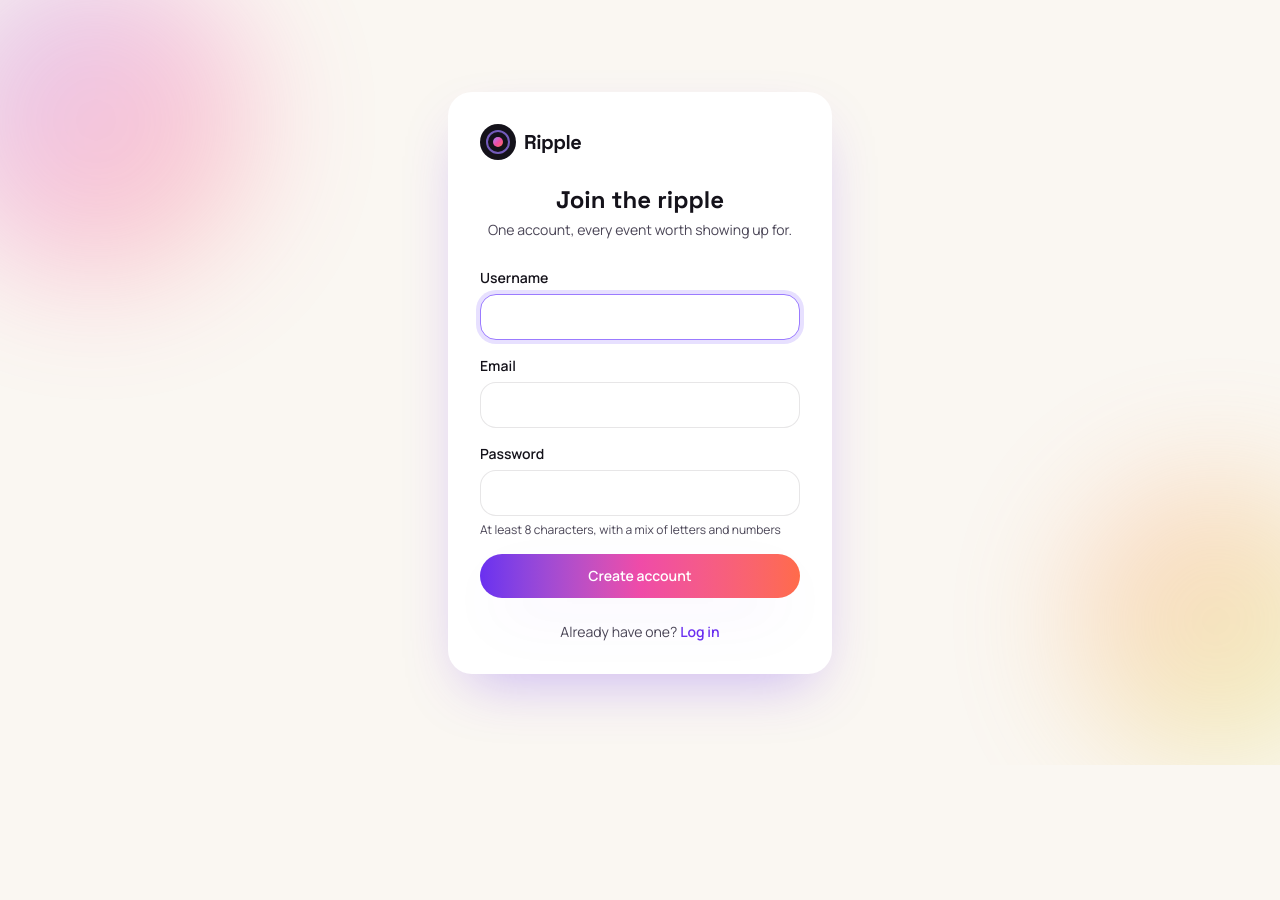
Register page › shows the server error and does not navigate on failure
Type "alice" into the field labelled "Username" at (640, 316), box [480,294,800,340]
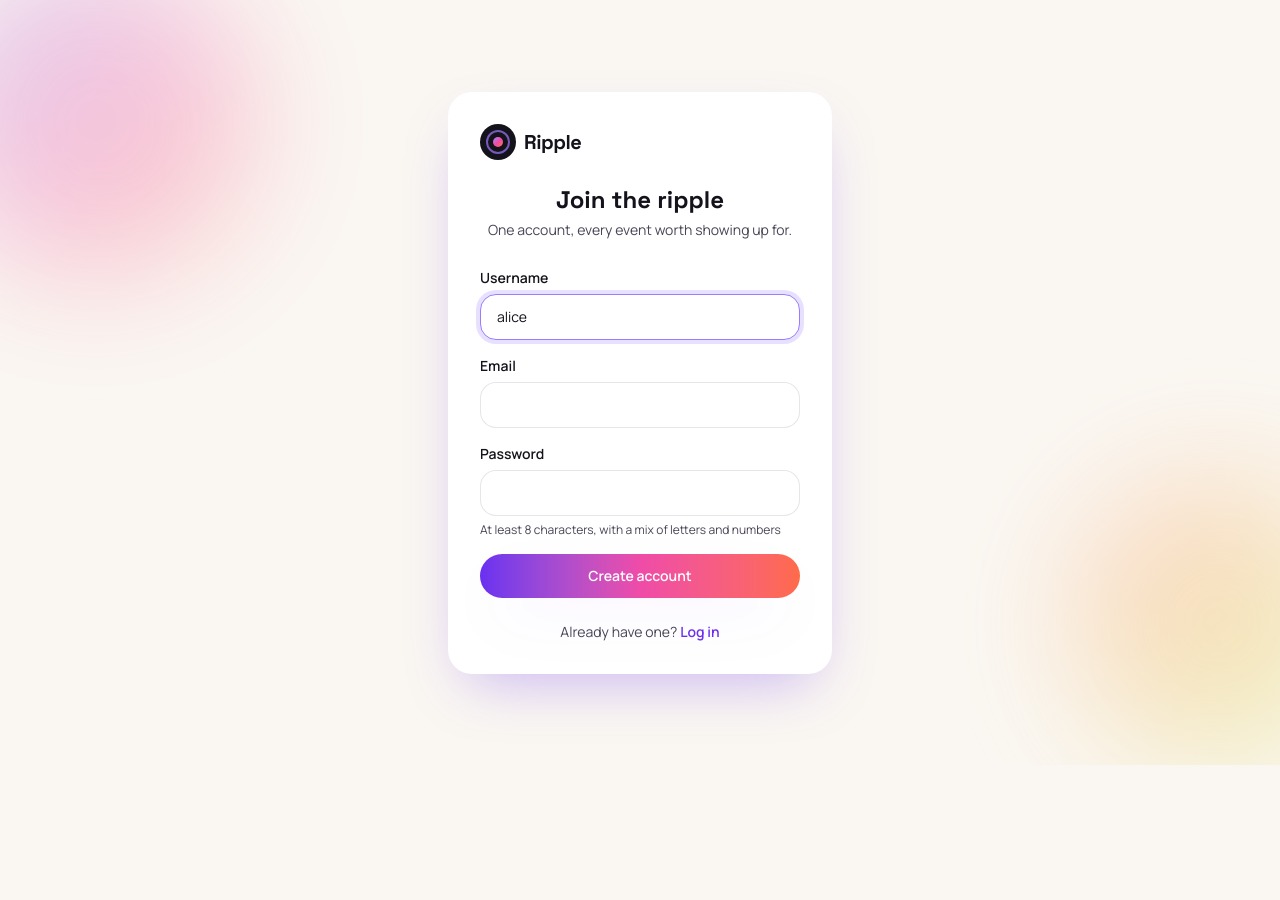
Type "taken@example.com" into the field labelled "Email" at (640, 404), box [480,382,800,428]
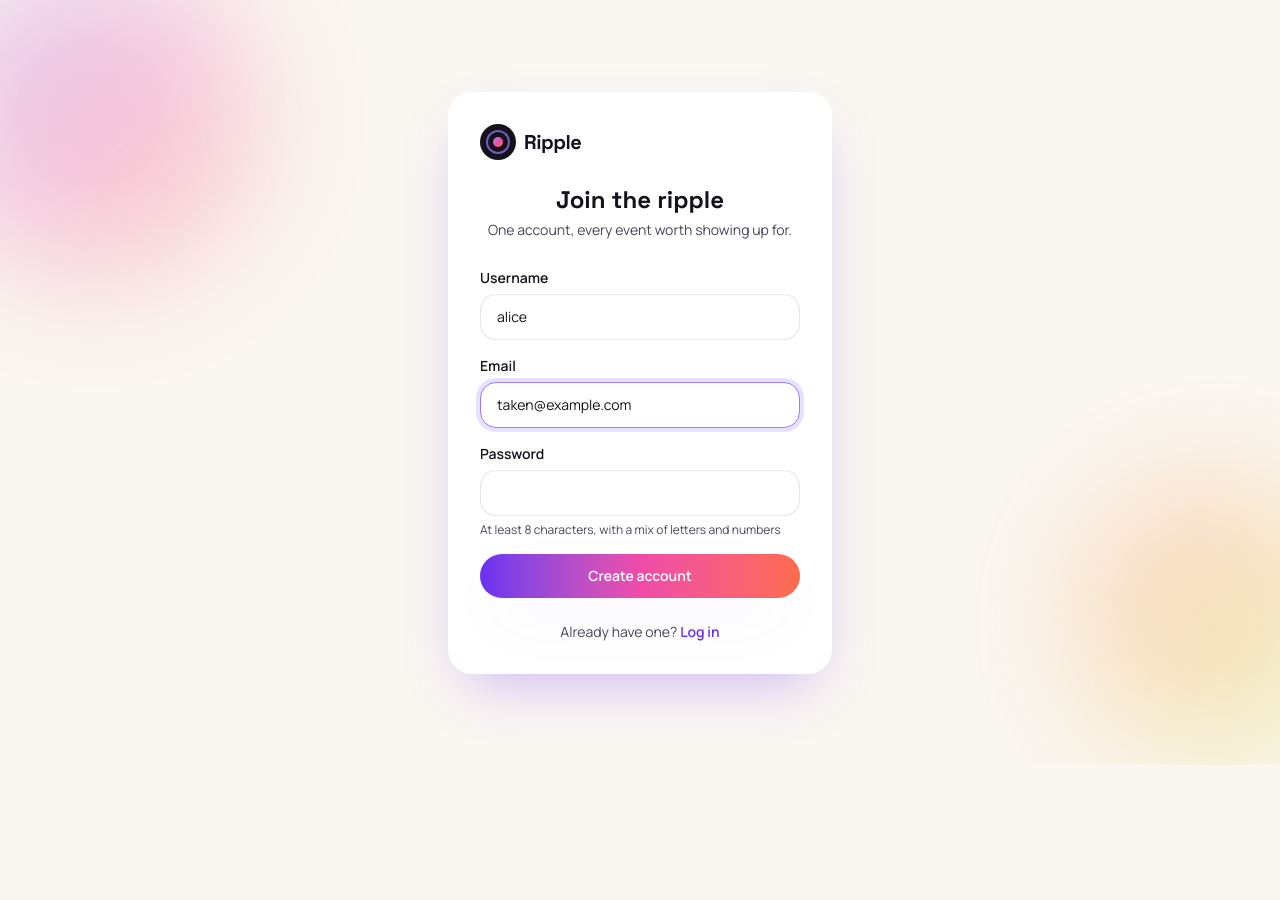
Type "Passw0rd!" into the password field labelled "Password" at (640, 492), box [480,470,800,516]
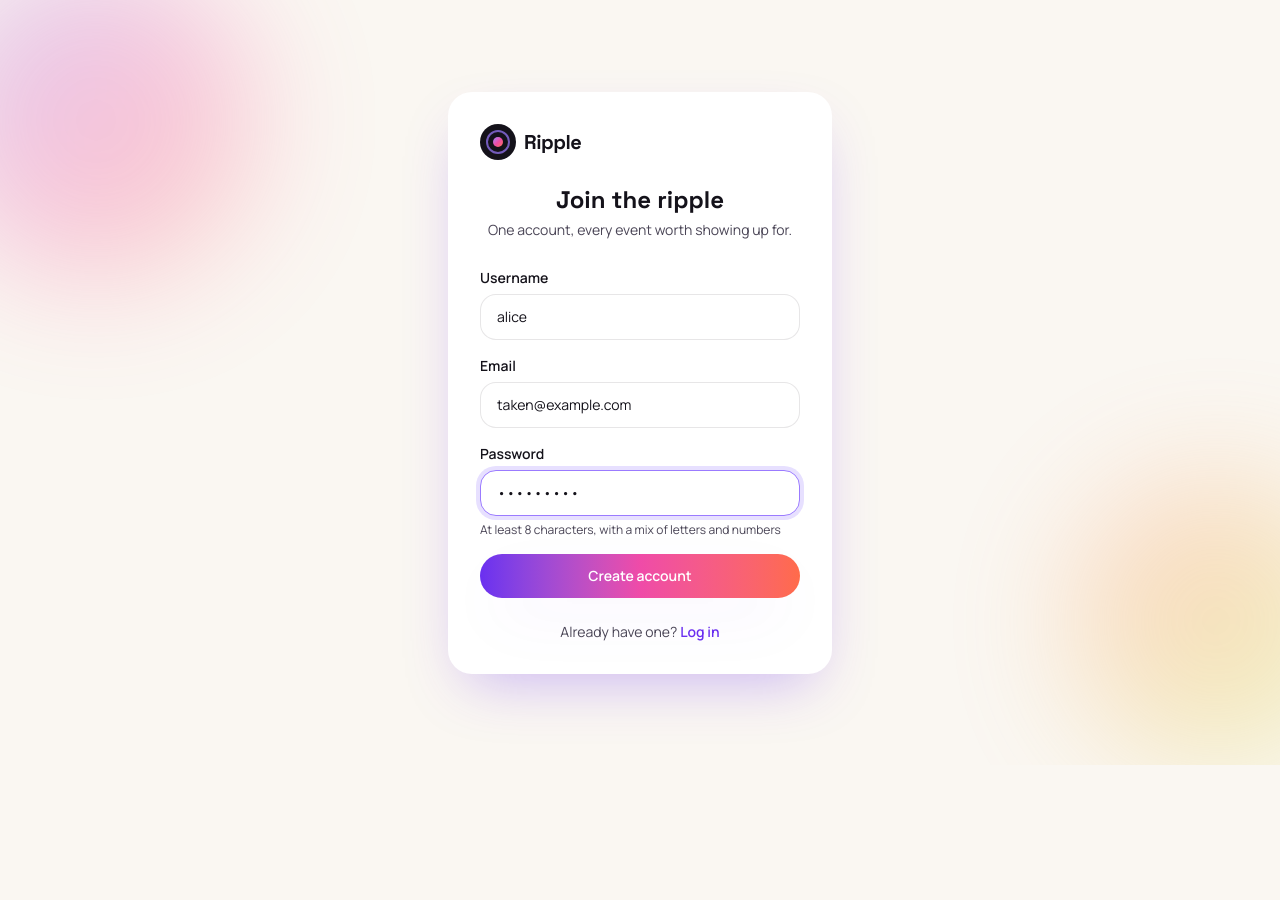
Click the button "Create account" at (640, 576), box [480,554,800,598]
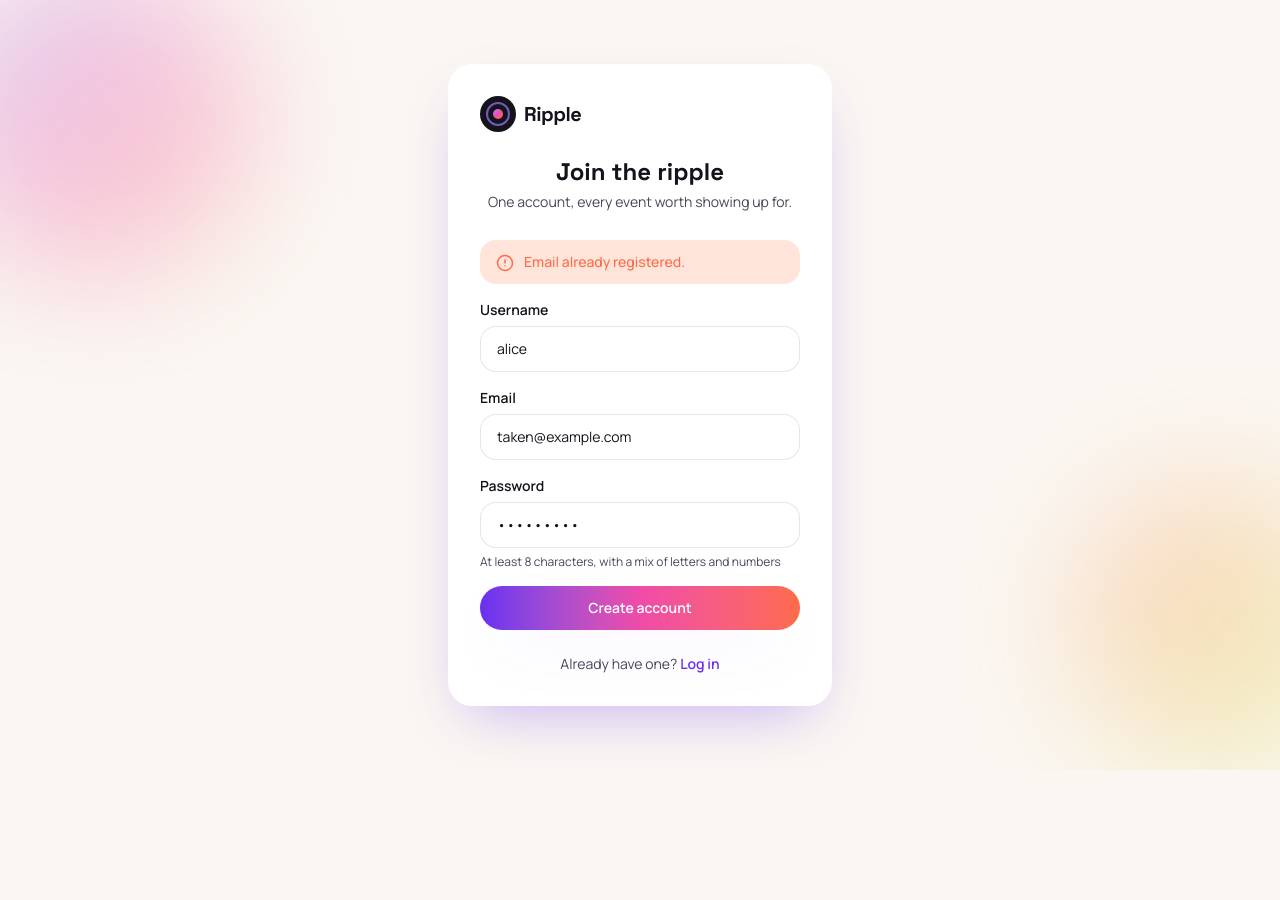
Expected: the text "Email already registered." is shown, [524,252,685,272]
